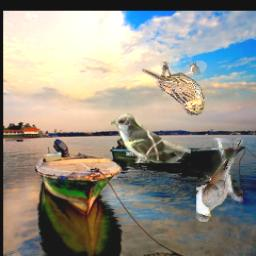Cuckoo: (110, 114, 190, 164), (196, 138, 243, 222)
Sparrow: (141, 61, 206, 115)
